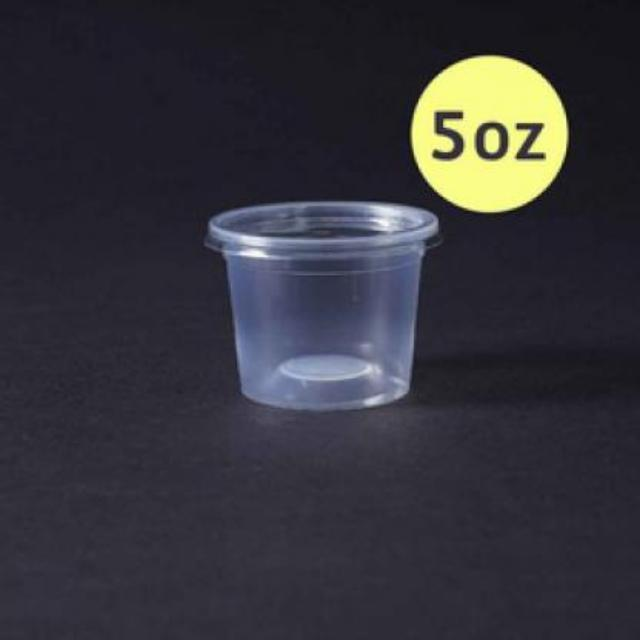plastic_box: (208, 200, 442, 410)
